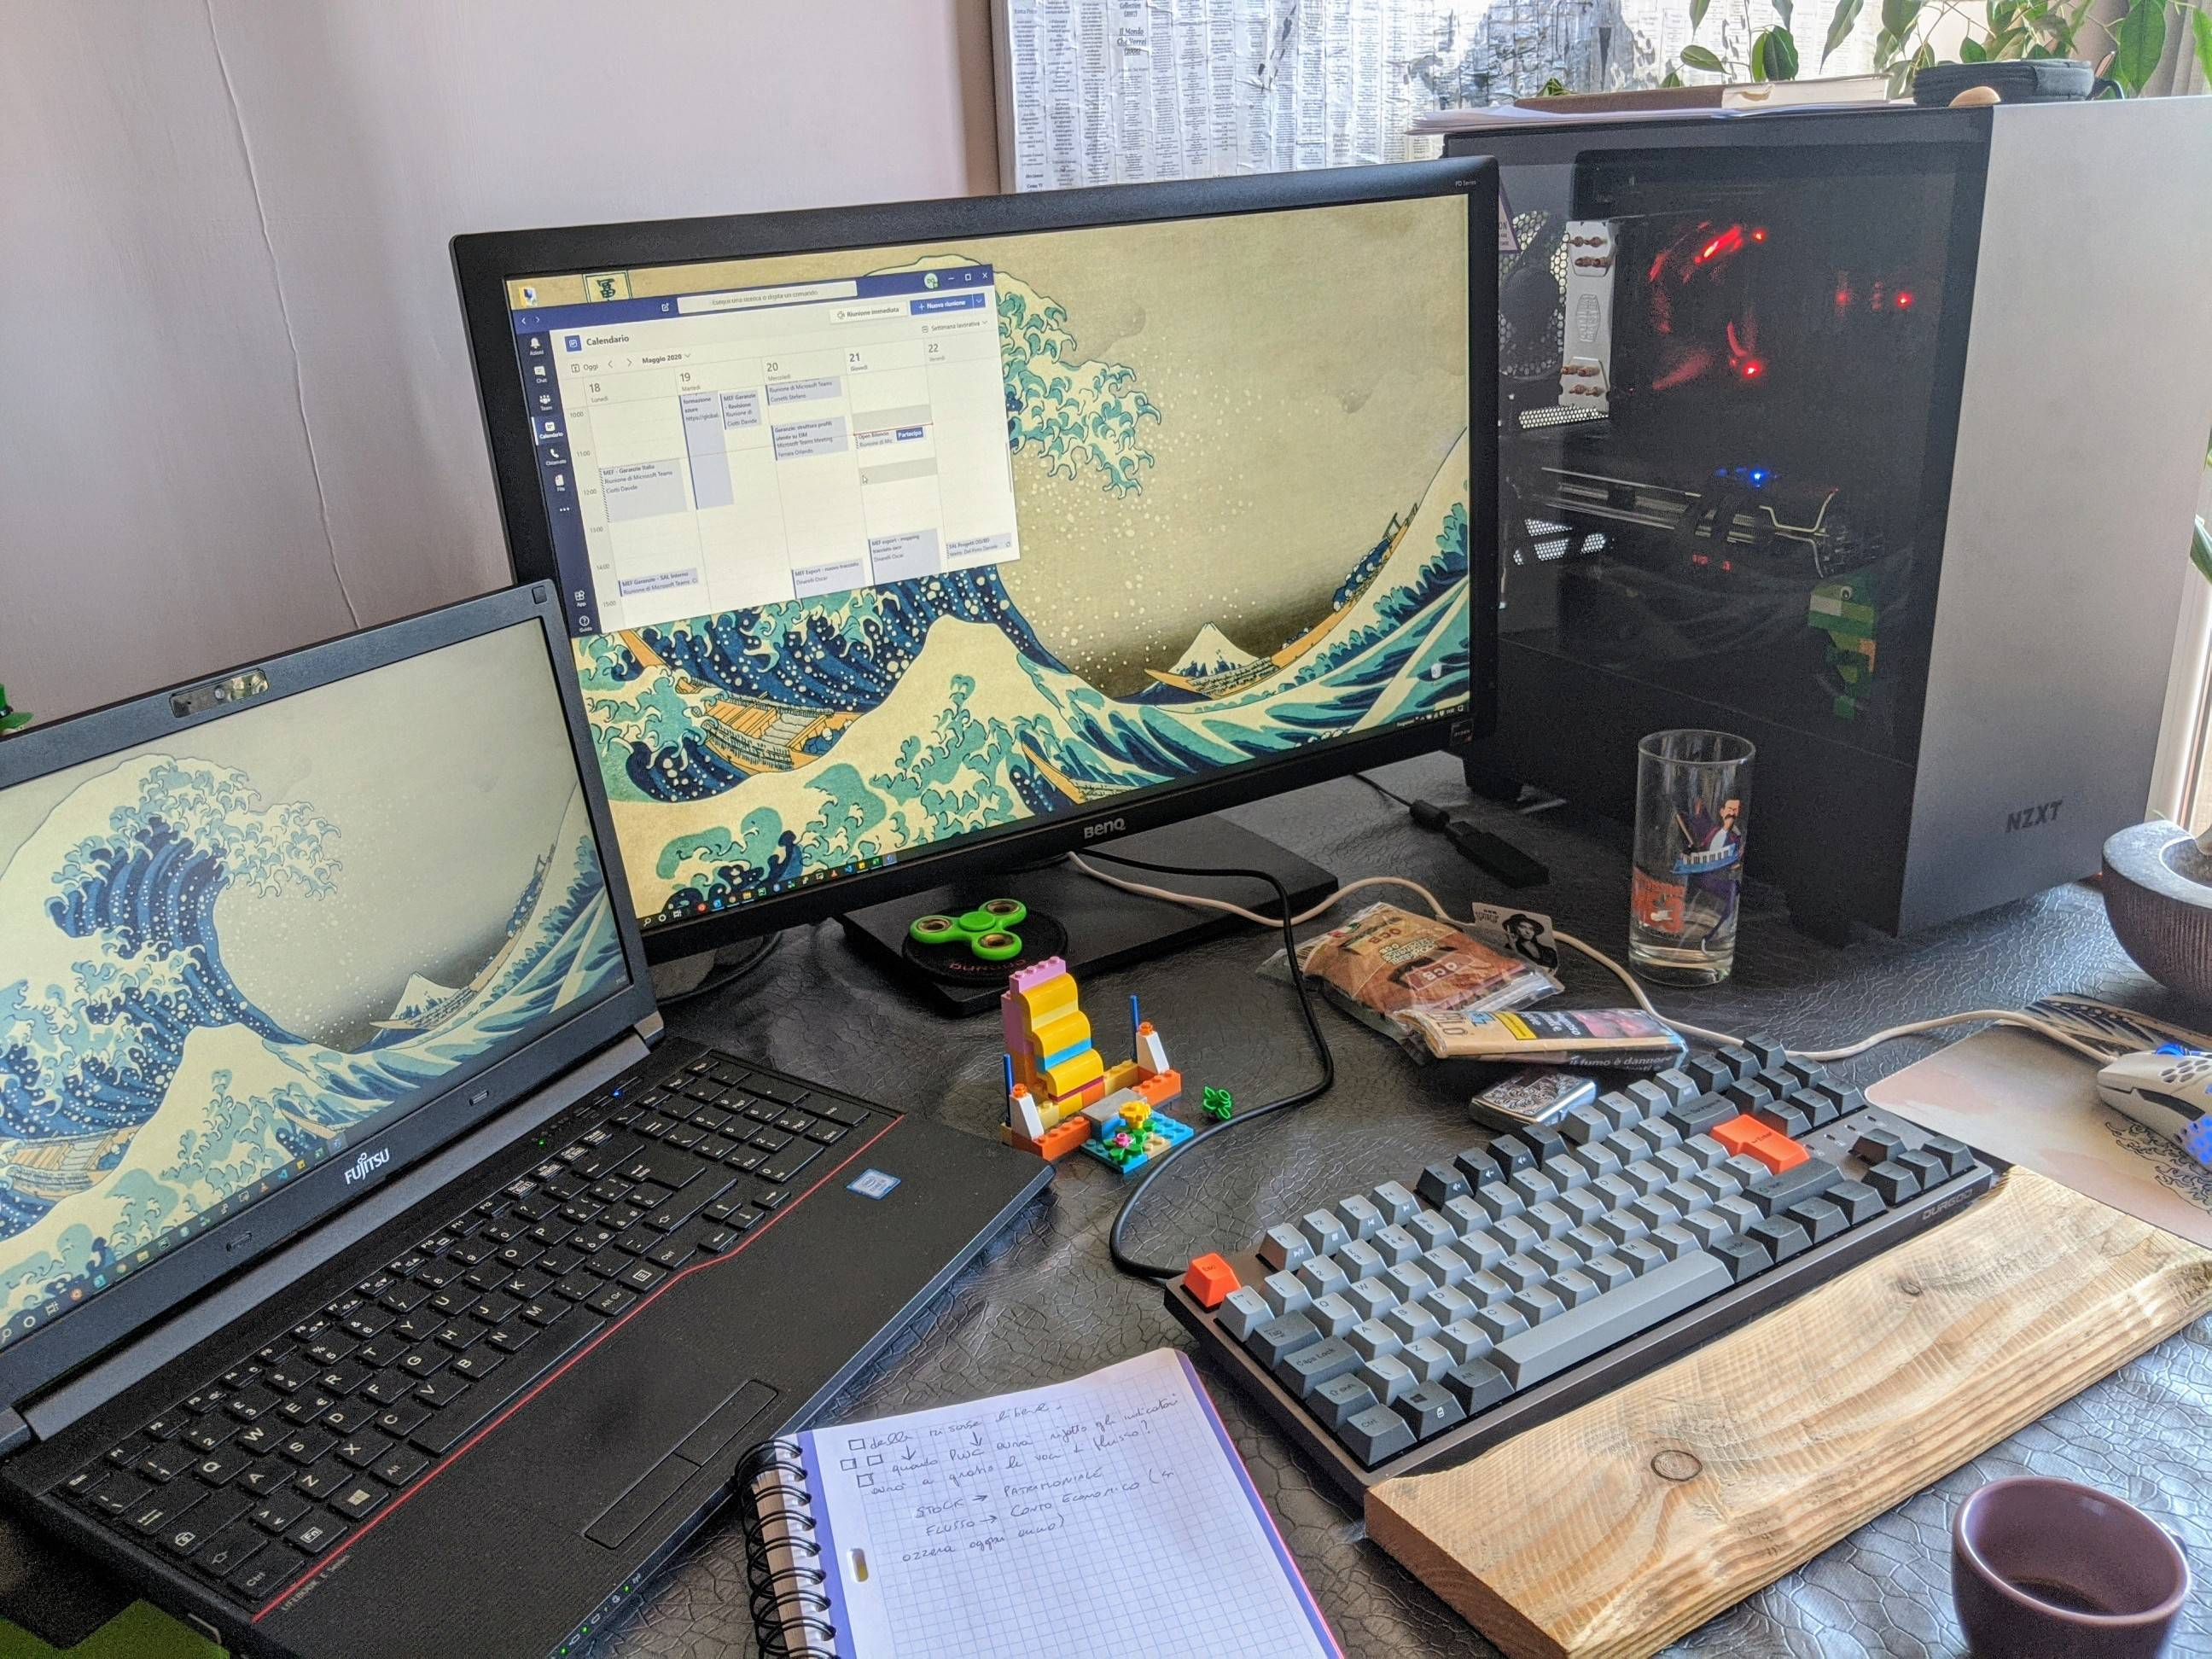Cup: (1618, 713, 1759, 995)
Decoration (Generic): (963, 929, 1317, 1197)
Desktop (Windows): (1407, 87, 2200, 939)
Keyboard (Generic): (1157, 1019, 2017, 1518)
Laptop (Windows): (0, 577, 1080, 1645)
Monitor (Landscape): (421, 127, 1529, 972)
Monitor (Laptop): (0, 591, 676, 1399)
Mouse (Generic): (2092, 1006, 2212, 1187)
Mousepad (Generic): (1858, 962, 2212, 1274)
Mug: (1925, 1478, 2198, 1659)
Notebook: (723, 1337, 1359, 1652)
